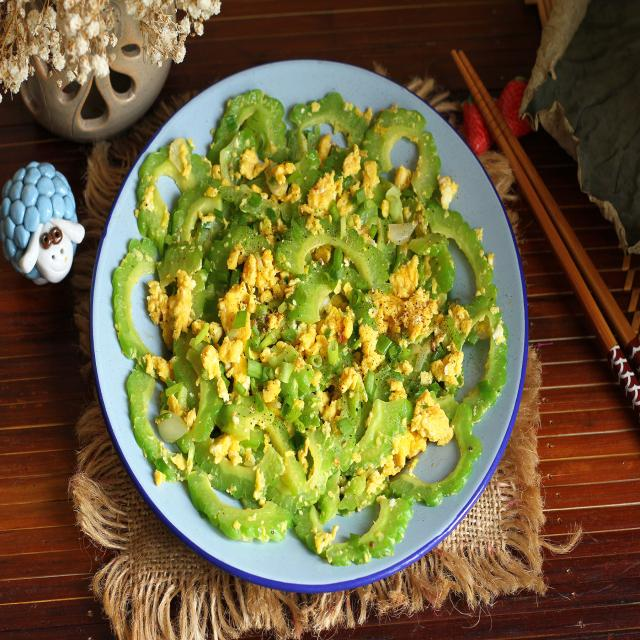kho qua: (112, 90, 507, 565)
